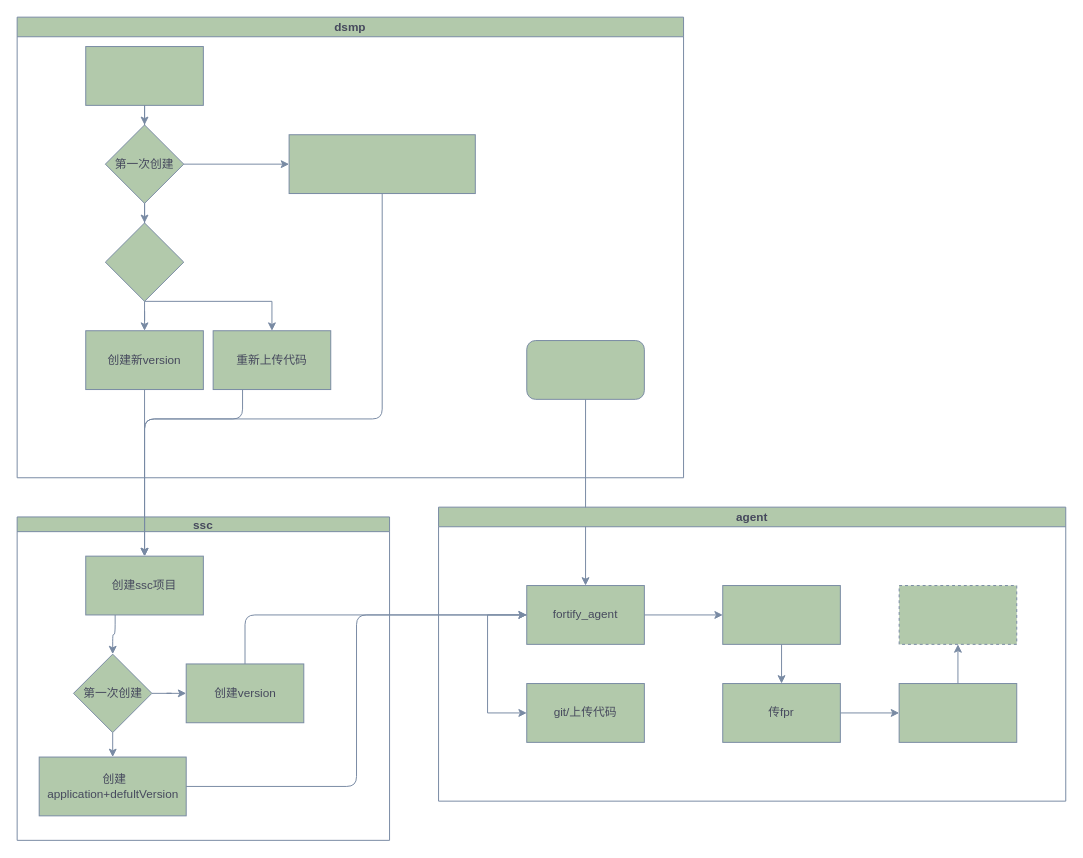
Image size: 1083x858. Some labels were removed from this diagram. The shapes that lost their labels are listed below. From the top down, each one's centre as x and y in pixels, then its label:
point 144,75: 创建任务
point 381,164: 创建application+default_version
point 144,261: 版本是否存在
point 585,369: 重新扫描
point 781,614: openApi通知
point 957,614: 同步数据
point 957,712: approve
